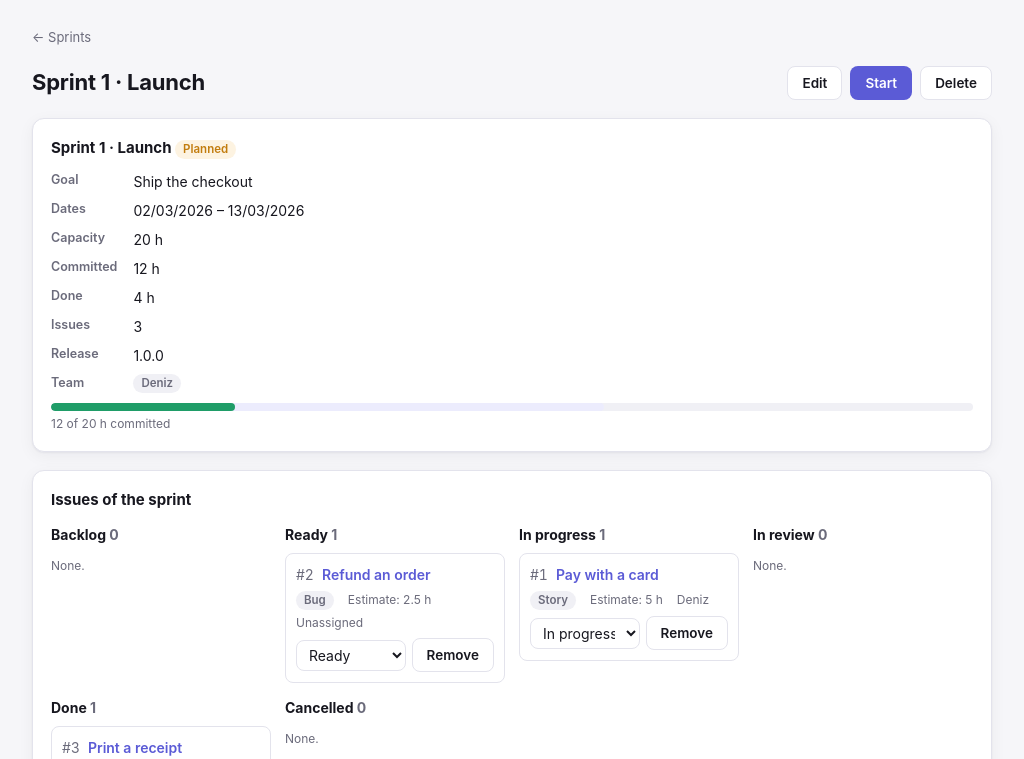
Test: the sprint page: status and removing › shows the refusal of a status change
The image size is (1024, 759).
Select "Done" in the dropdown named "Status of #1" at [585, 633], box [530, 618, 640, 648]
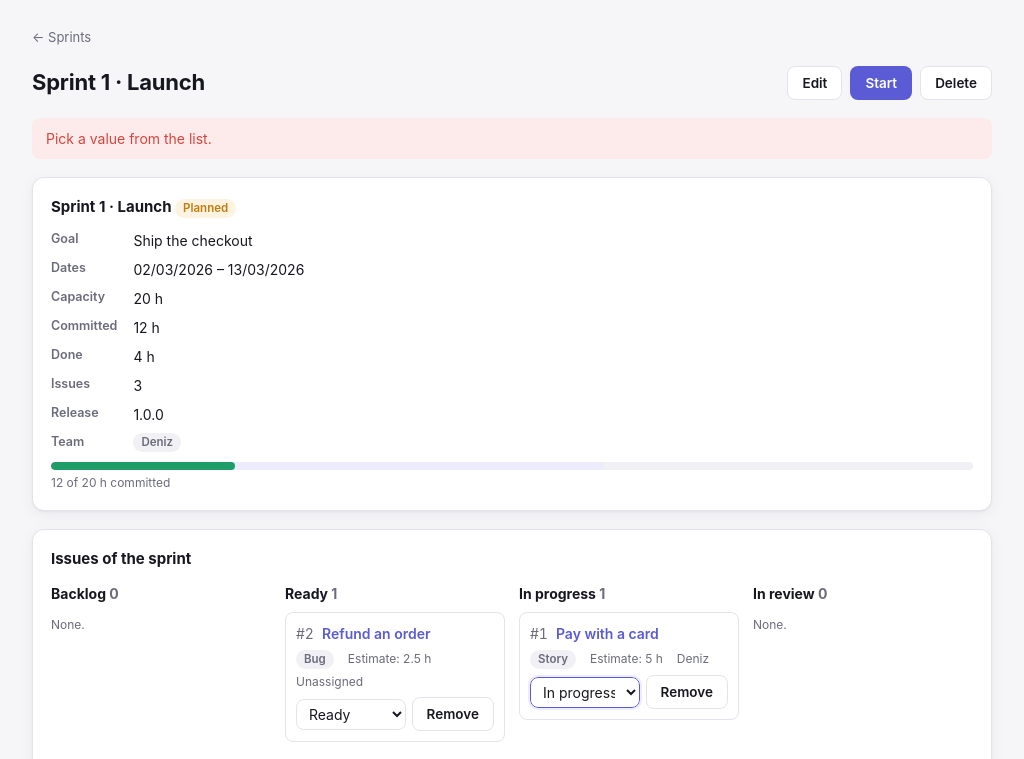
Expected: the text "Pick a value from the list." is shown, [32, 118, 992, 158]
